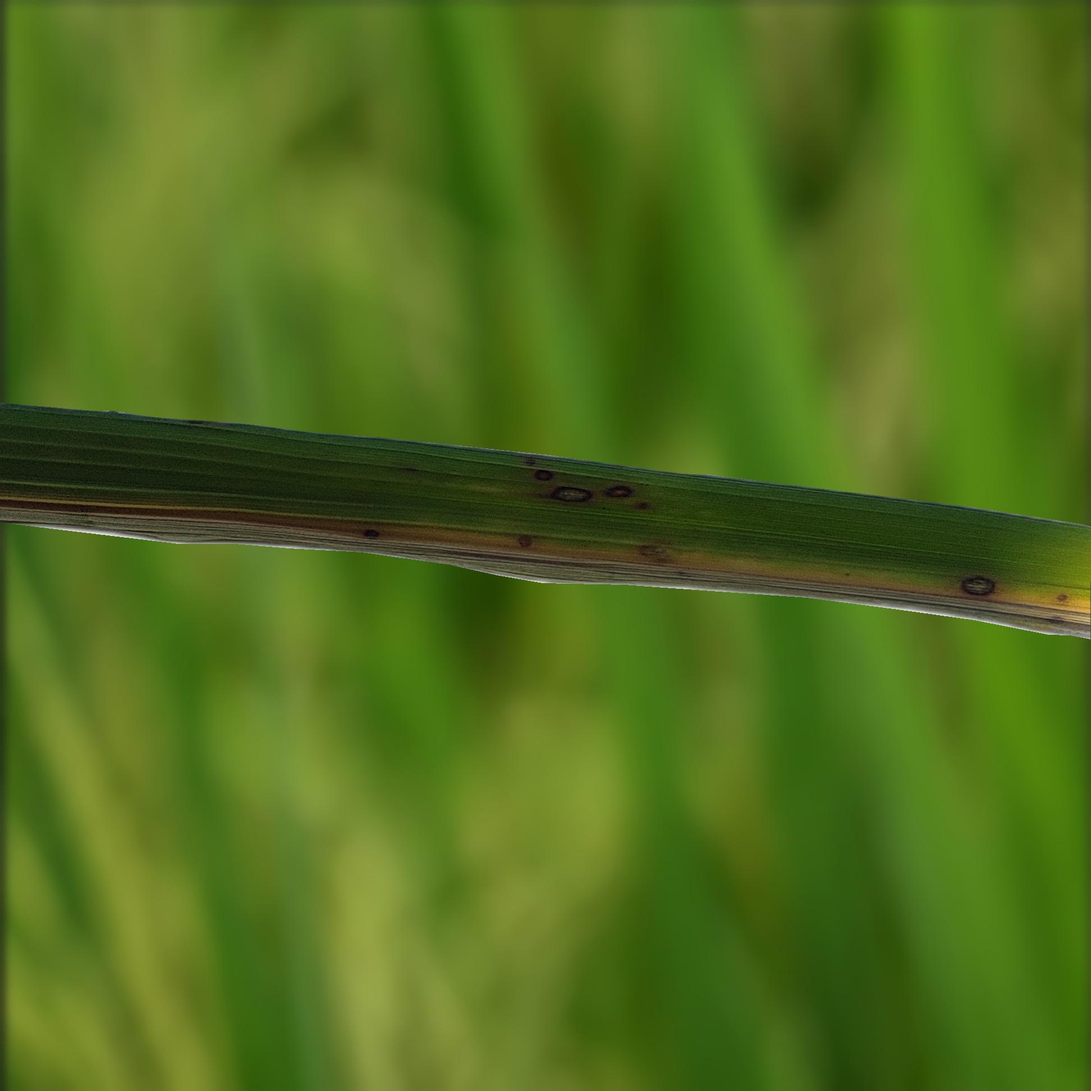LEAF BLAST: (551, 486, 592, 502), (961, 576, 995, 595), (605, 485, 632, 498)
